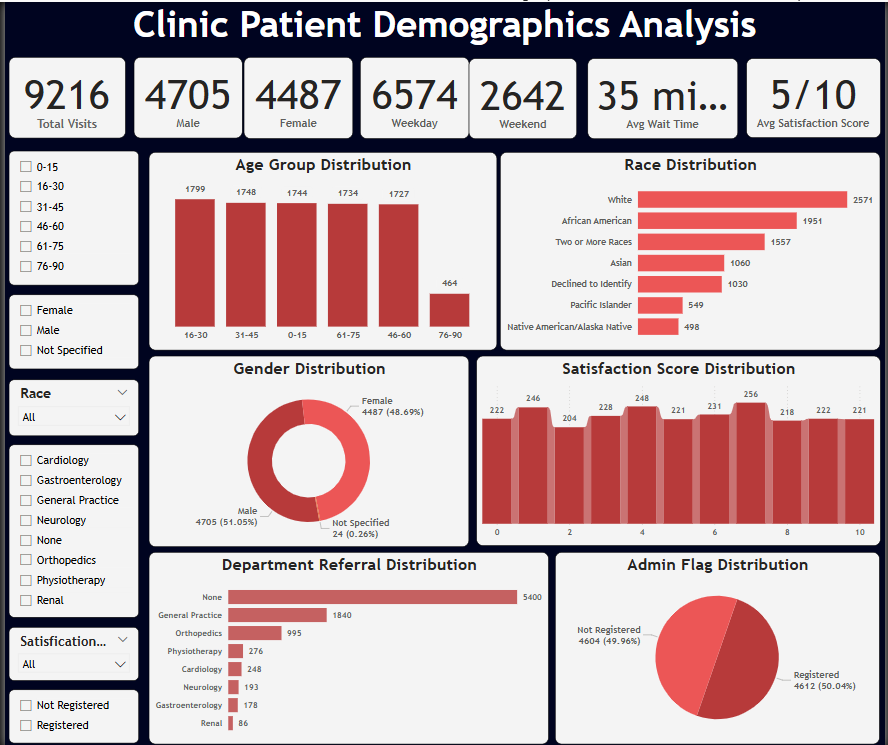

The page's visual inventory and layout, read from the dashboard file:
{"tool":"powerbi","page":{"name":"Demographics","canvas":[1282,1086],"ordinal":1},"visuals":[{"type":"card","fields":{"Values":["Count(patient table.patient_id)"]},"box":[5.7,80,170,118.6],"z":0},{"type":"card","fields":{"Values":["CountNonNull(patient table.patient_gender)"]},"box":[187.7,79.8,158.6,118.6],"z":1000},{"type":"card","fields":{"Values":["CountNonNull(patient table.patient_gender)"]},"box":[347,79.7,159.4,118.8],"z":2000},{"type":"card","fields":{"Values":["date_time table.Avg Wait Time"]},"box":[847.8,81.2,218.8,117.4],"z":3000},{"type":"card","fields":{"Values":["date_time table.Avg Satisfication Score"]},"box":[1079.7,82.6,195.7,115.9],"z":4000},{"type":"card","fields":{"Values":["CountNonNull(date_time table.weekday/weekend)"]},"box":[515.9,79.7,159.4,118.8],"z":5000},{"type":"card","fields":{"Values":["CountNonNull(date_time table.weekday/weekend)"]},"box":[675.4,81.2,158,117.4],"z":6000},{"type":"textbox","box":[0,0,1280,74.3],"z":7000},{"type":"slicer","fields":{"Values":["patient table.patient_race"]},"box":[5.8,549.3,189.9,82.6],"z":8000},{"type":"slicer","fields":{"Values":["patient table.age_group"]},"box":[5.8,217.4,189.9,195.7],"z":9000},{"type":"slicer","fields":{"Values":["patient table.patient_gender"]},"box":[5.8,426.1,189.9,108.7],"z":10000},{"type":"slicer","fields":{"Values":["activity table.department_referral"]},"box":[5.8,644.9,189.9,252.2],"z":11000},{"type":"slicer","fields":{"Values":["activity table.satisfication_score"]},"box":[5.8,910.1,189.9,78.3],"z":12000},{"type":"lineStackedColumnComboChart","title":"Age Group Distribution","fields":{"Category":["patient table.age_bucket"],"Y":["CountNonNull(patient table.age_bucket)"]},"box":[208.7,218.8,507.2,288.4],"z":13000},{"type":"clusteredBarChart","title":"Race Distribution","fields":{"Category":["patient table.patient_race"],"Y":["CountNonNull(patient table.patient_race)"]},"box":[720.3,218.8,553.6,288.4],"z":14000},{"type":"donutChart","title":"Gender Distribution","fields":{"Category":["patient table.patient_gender"],"Y":["CountNonNull(patient table.patient_gender)"]},"box":[208.7,514.5,466.7,278.3],"z":15000},{"type":"clusteredBarChart","title":"Department Referral Distribution","fields":{"Category":["activity table.department_referral"],"Y":["CountNonNull(activity table.department_referral)"]},"box":[208.7,800,582.6,279.7],"z":16000},{"type":"columnChart","title":"Satisfaction Score Distribution","fields":{"Category":["activity table.satisfication_score"],"Y":["CountNonNull(activity table.satisfication_score)"]},"box":[685.5,514.5,588.4,276.8],"z":17000},{"type":"pieChart","title":"Admin Flag Distribution","fields":{"Category":["activity table.patient_admin_flag"],"Y":["CountNonNull(activity table.patient_admin_flag)"]},"box":[801.4,800,472.5,279.7],"z":18000},{"type":"slicer","fields":{"Values":["activity table.patient_admin_flag"]},"box":[5.8,1001.4,189.9,78.3],"z":19000}]}

Visuals, with their boxes in screenshot pixels (x1, y1, x2, y2), scaled from the page's 1282x1086 canvas onto the 888x745 screenshot:
card - Count(patient table.patient_id): <bbox>4, 55, 122, 136</bbox>
card - CountNonNull(patient table.patient_gender): <bbox>130, 55, 240, 136</bbox>
card - CountNonNull(patient table.patient_gender): <bbox>240, 55, 351, 136</bbox>
card - date_time table.Avg Wait Time: <bbox>587, 56, 739, 136</bbox>
card - date_time table.Avg Satisfication Score: <bbox>748, 57, 883, 136</bbox>
card - CountNonNull(date_time table.weekday/weekend): <bbox>357, 55, 468, 136</bbox>
card - CountNonNull(date_time table.weekday/weekend): <bbox>468, 56, 577, 136</bbox>
textbox: <bbox>0, 0, 887, 51</bbox>
slicer - patient table.patient_race: <bbox>4, 377, 136, 433</bbox>
slicer - patient table.age_group: <bbox>4, 149, 136, 283</bbox>
slicer - patient table.patient_gender: <bbox>4, 292, 136, 367</bbox>
slicer - activity table.department_referral: <bbox>4, 442, 136, 615</bbox>
slicer - activity table.satisfication_score: <bbox>4, 624, 136, 678</bbox>
"Age Group Distribution" lineStackedColumnComboChart: <bbox>145, 150, 496, 348</bbox>
"Race Distribution" clusteredBarChart: <bbox>499, 150, 882, 348</bbox>
"Gender Distribution" donutChart: <bbox>145, 353, 468, 544</bbox>
"Department Referral Distribution" clusteredBarChart: <bbox>145, 549, 548, 741</bbox>
"Satisfaction Score Distribution" columnChart: <bbox>475, 353, 882, 543</bbox>
"Admin Flag Distribution" pieChart: <bbox>555, 549, 882, 741</bbox>
slicer - activity table.patient_admin_flag: <bbox>4, 687, 136, 741</bbox>
